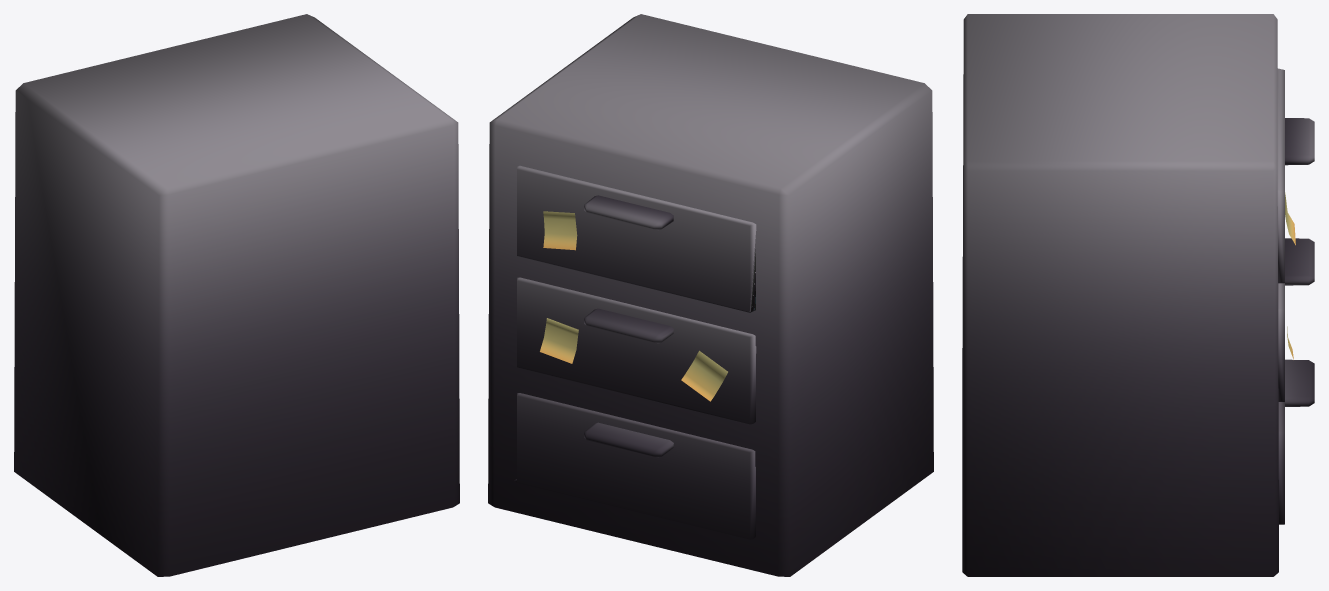
Rendered from mesh_cabinetwithpostits_LOD1.fbx.
3 renders of one model, left to right at view 1: azimuth 30°, elevation 25°; view 2: azimuth 150°, elevation 25°; view 3: azimuth 270°, elevation 25°, orthographic. The views are drawn at different scales.
Visible parts, largest first — view 1: cabinet_w_postits; view 2: cabinet_w_postits; view 3: cabinet_w_postits.
Part boxes in pixels (bbox=[...]): cabinet_w_postits: bbox=[14, 14, 459, 576]; cabinet_w_postits: bbox=[488, 14, 933, 576]; cabinet_w_postits: bbox=[962, 14, 1314, 576].
Size of the model in its own units: 112 by 137 by 107.
